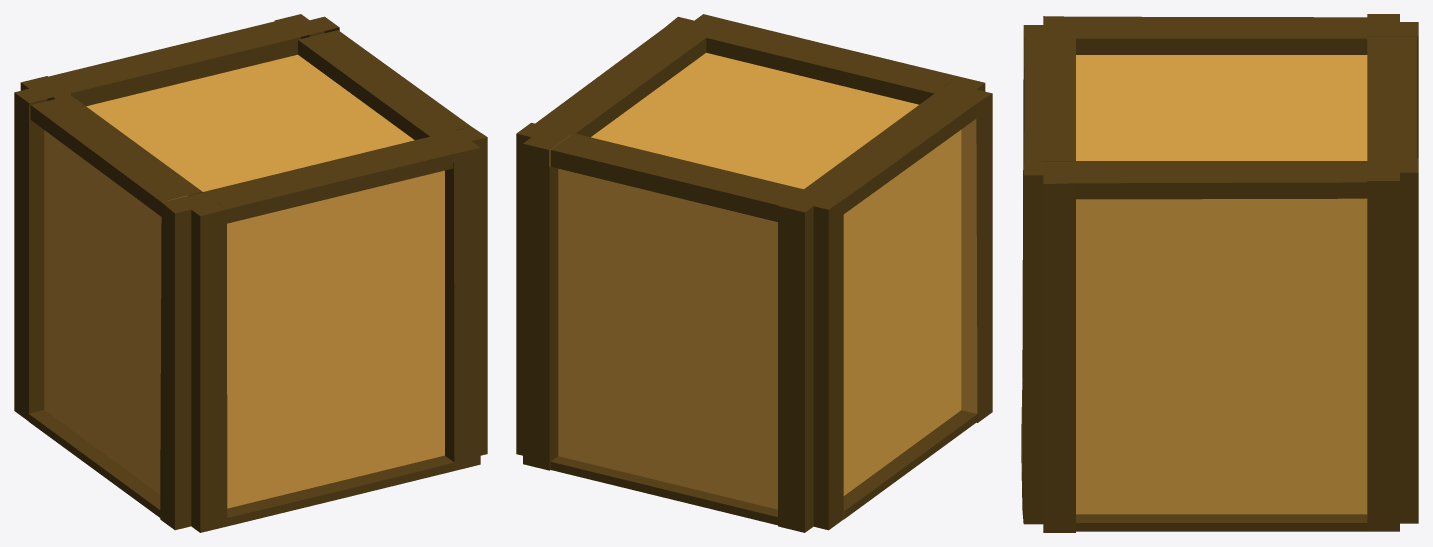
3 renders of one model, left to right at view 1: azimuth 30°, elevation 25°; view 2: azimuth 150°, elevation 25°; view 3: azimuth 270°, elevation 25°, orthographic. The views are drawn at different scales.
Visible parts, largest first — view 1: Box; view 2: Box; view 3: Box.
Part boxes in pixels (x1,y1,x2,y2): Box: (14, 14, 487, 532); Box: (516, 14, 992, 532); Box: (1021, 14, 1418, 532).
Size of the model in its own units: 223 by 218 by 223.
